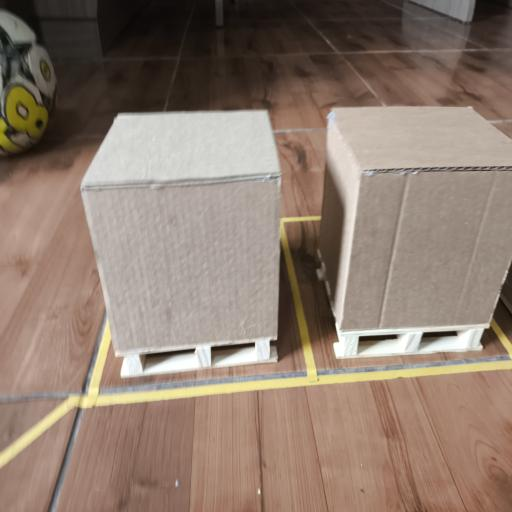pallet: (317, 251, 489, 358), (121, 339, 277, 377)
